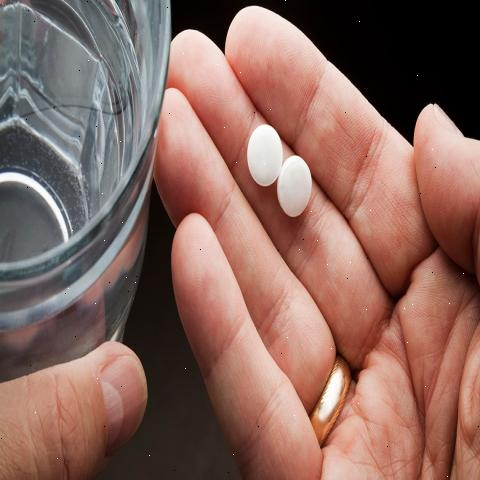Pill: (240, 83, 286, 198), (275, 145, 323, 236)
